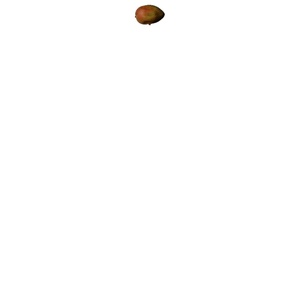mamão: (130, 3, 167, 28)
